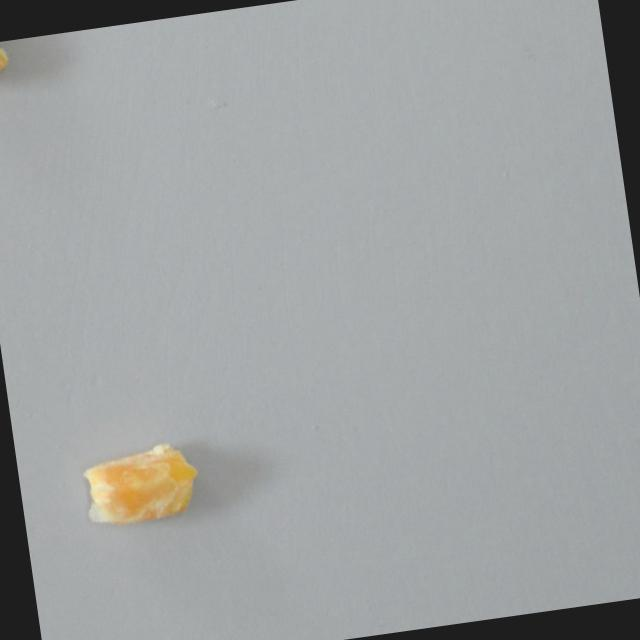pelicula: (77, 437, 204, 534), (0, 40, 15, 83)
